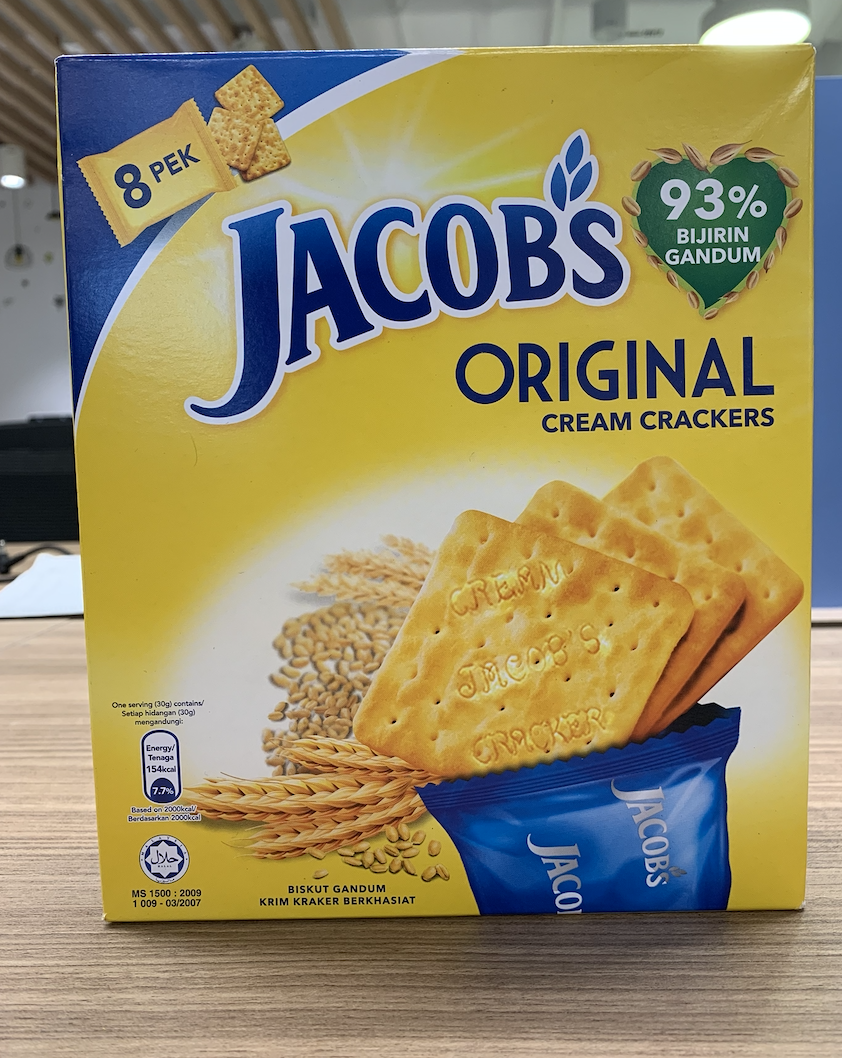halal: (147, 841, 180, 877)
